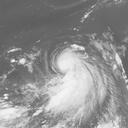cyclone: (50, 44, 88, 76)
